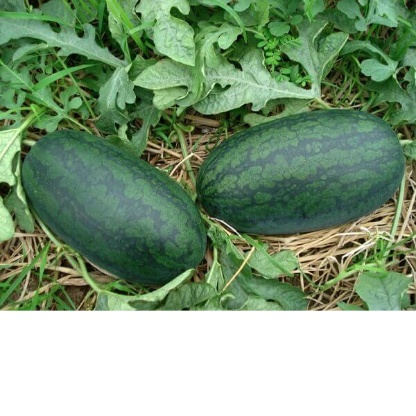duahau: (16, 109, 212, 288), (197, 86, 403, 248)
